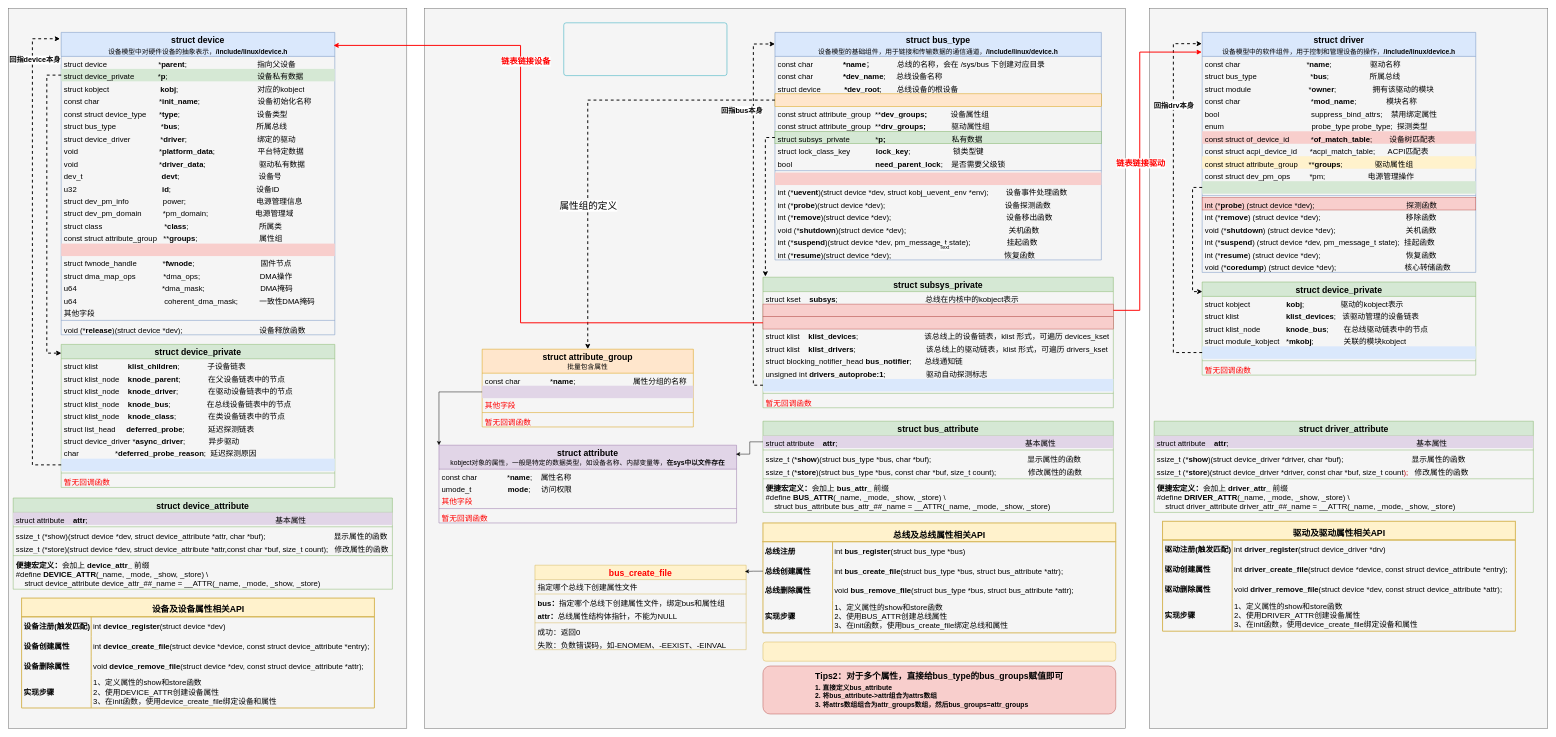
Some shapes in this 1556 by 737 pixel diagram are drawn without their labels. Here are the shapes that lost their labels. From the top down, the centre of each, then its label:
At (645,49): "🌻Make By Dakkk".
At (937,99): "const struct attribute_group ** bus_groups; 总线属性组".
At (938,178): "int (* match )(struct device *dev, struct device_driver *drv); 设备和驱动程序之间的匹配函数".
At (1339,187): "struct driver_private *p; 驱动私有数据".
At (198,249): "struct device_node * of_node ; 设备树节点".
At (937,310): "struct kset * drivers_kset ; 该总线的driver kset".
At (937,322): "struct kset * devices_kset ; 该总线的device kset".
At (1339,352): "struct device_driver * driver ; 回指驱动结构体".
At (587,391): "struct attribute ** attrs ; 属性数组".
At (938,385): "struct bus_type * bus ; 该结构体的回指指针".
At (198,464): "struct device * device ; 回指设备结构体".
At (939,651): "Tips1：bus_create_file底层实际是 sysfs_create_file(bus->p>subsys.kobj, attr->attr)".
